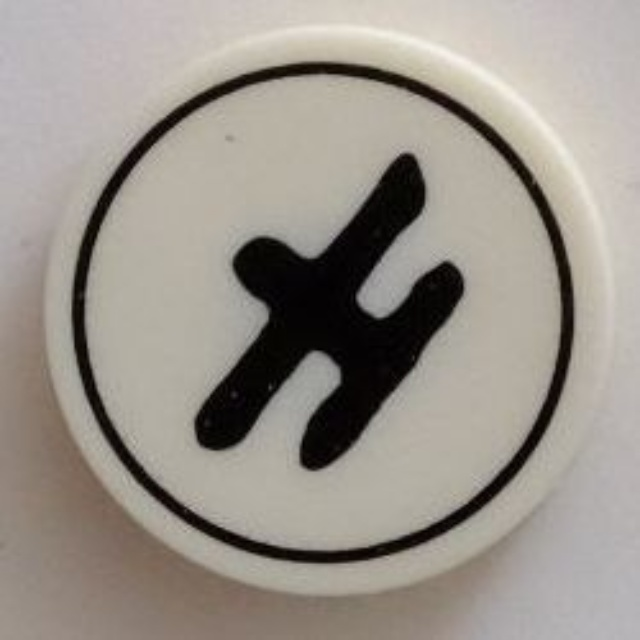black_si: (40, 26, 620, 599)
